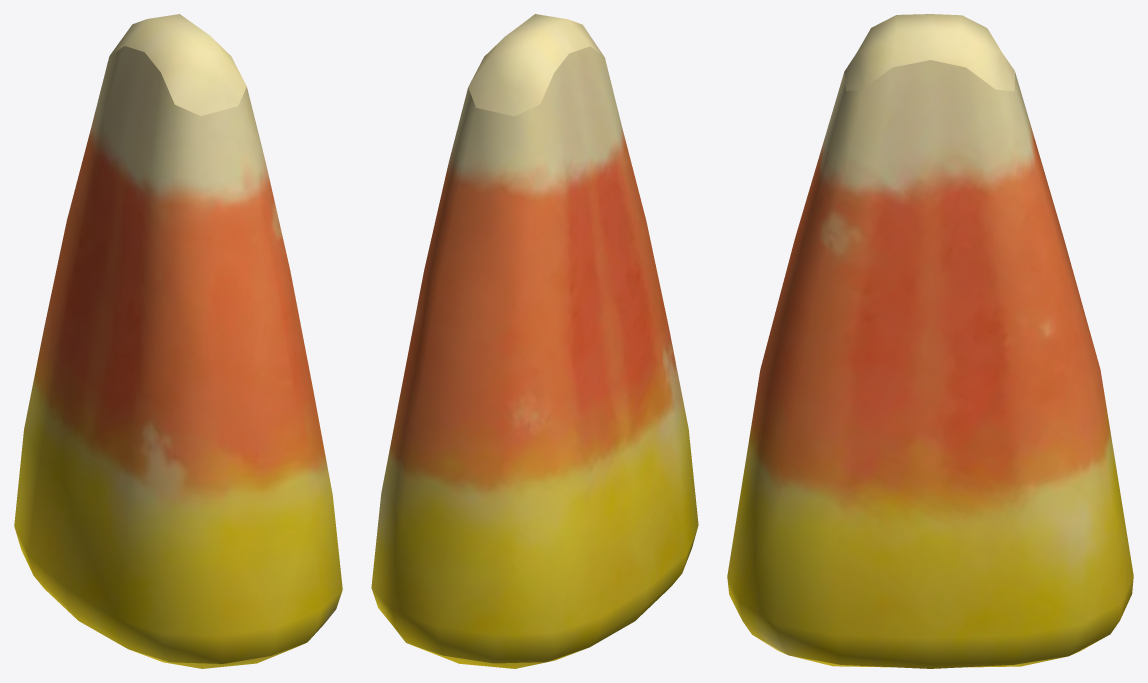
File: candyprojectile.glb
3 views of the same model, side by side, from view 1: azimuth 30°, elevation 25°; view 2: azimuth 150°, elevation 25°; view 3: azimuth 270°, elevation 25° (orthographic). The views are drawn at different scales.
Visible parts, largest first — view 1: CandyCorn_LOD0; view 2: CandyCorn_LOD0; view 3: CandyCorn_LOD0.
Boxes of the visible parts, bbox=[...] form: CandyCorn_LOD0: bbox=[14, 14, 342, 668]; CandyCorn_LOD0: bbox=[371, 14, 698, 668]; CandyCorn_LOD0: bbox=[727, 14, 1133, 668].
Size of the model in its own units: 0.19 by 0.4837 by 0.285.
1 material, 1 textured.
